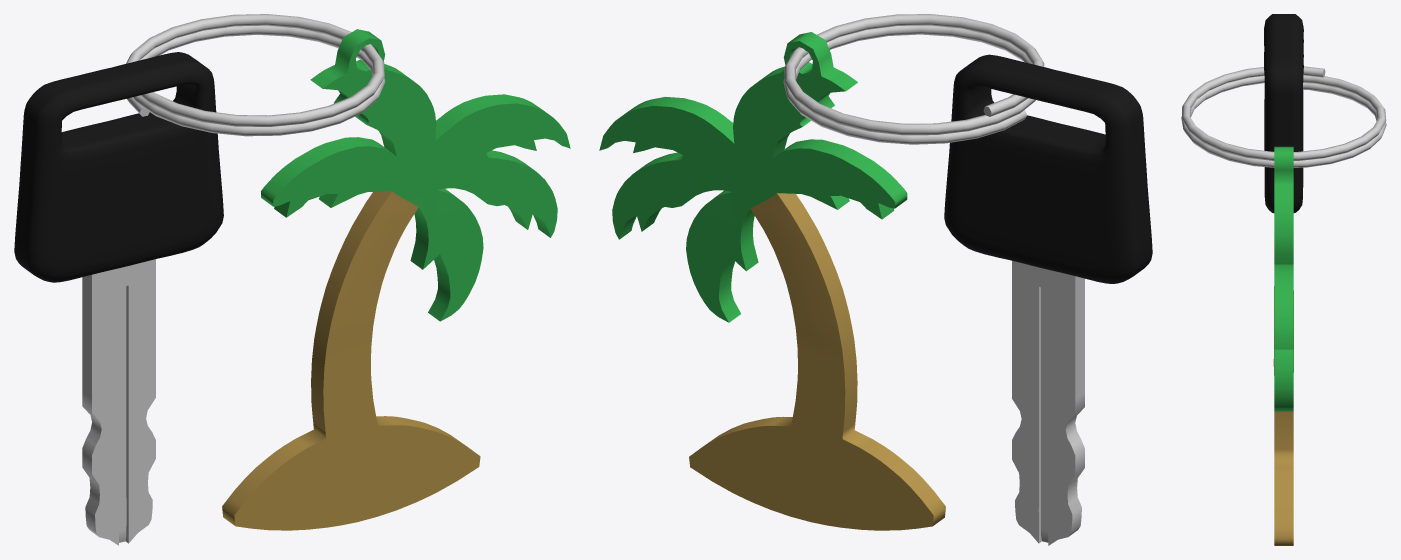
File: keys.fbx
3 views of the same model, side by side, from view 1: azimuth 30°, elevation 25°; view 2: azimuth 150°, elevation 25°; view 3: azimuth 270°, elevation 25° (orthographic). The views are drawn at different scales.
Visible parts, largest first — view 1: Palm Tree, keys, key ring; view 2: Palm Tree, keys, key ring; view 3: Palm Tree, key ring, keys.
Boxes of the visible parts, x1=… form: Palm Tree: x1=222, y1=29, x2=570, y2=530; keys: x1=14, y1=52, x2=223, y2=545; key ring: x1=126, y1=14, x2=385, y2=136; Palm Tree: x1=599, y1=32, x2=945, y2=530; keys: x1=944, y1=54, x2=1152, y2=545; key ring: x1=783, y1=14, x2=1044, y2=144; Palm Tree: x1=1273, y1=146, x2=1293, y2=545; key ring: x1=1181, y1=66, x2=1386, y2=167; keys: x1=1264, y1=14, x2=1303, y2=213.
Bounding box in the file's own units: 242 × 214 × 101.
